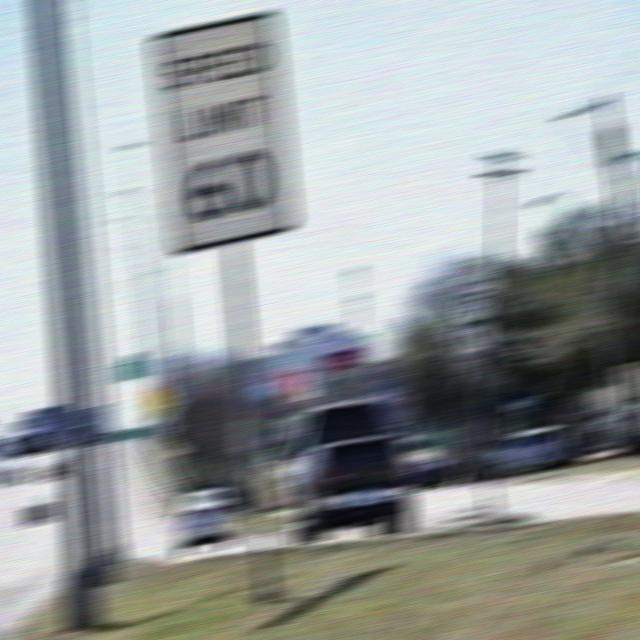speedLimit60: (148, 5, 300, 258)
